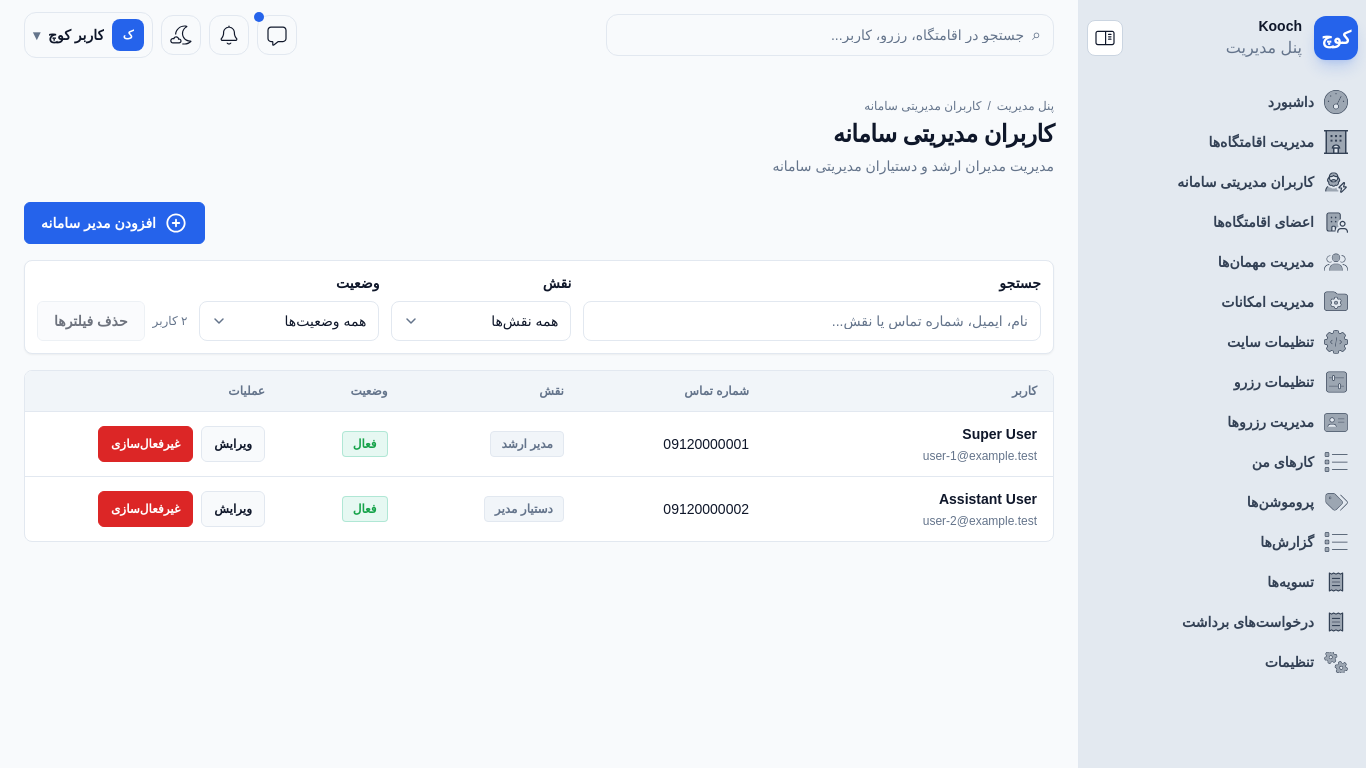
Scenario: Admin Users page › shows filtered and total user counts inside the filter card
Expected: the text "Super User" is shown, [962,426,1037,442]
Expected: the text "۲ کاربر" is shown, [153,313,188,329]
Select "مدیر ارشد" in the dropdown labelled "نقش" at (482, 321), box [392,301,572,341]
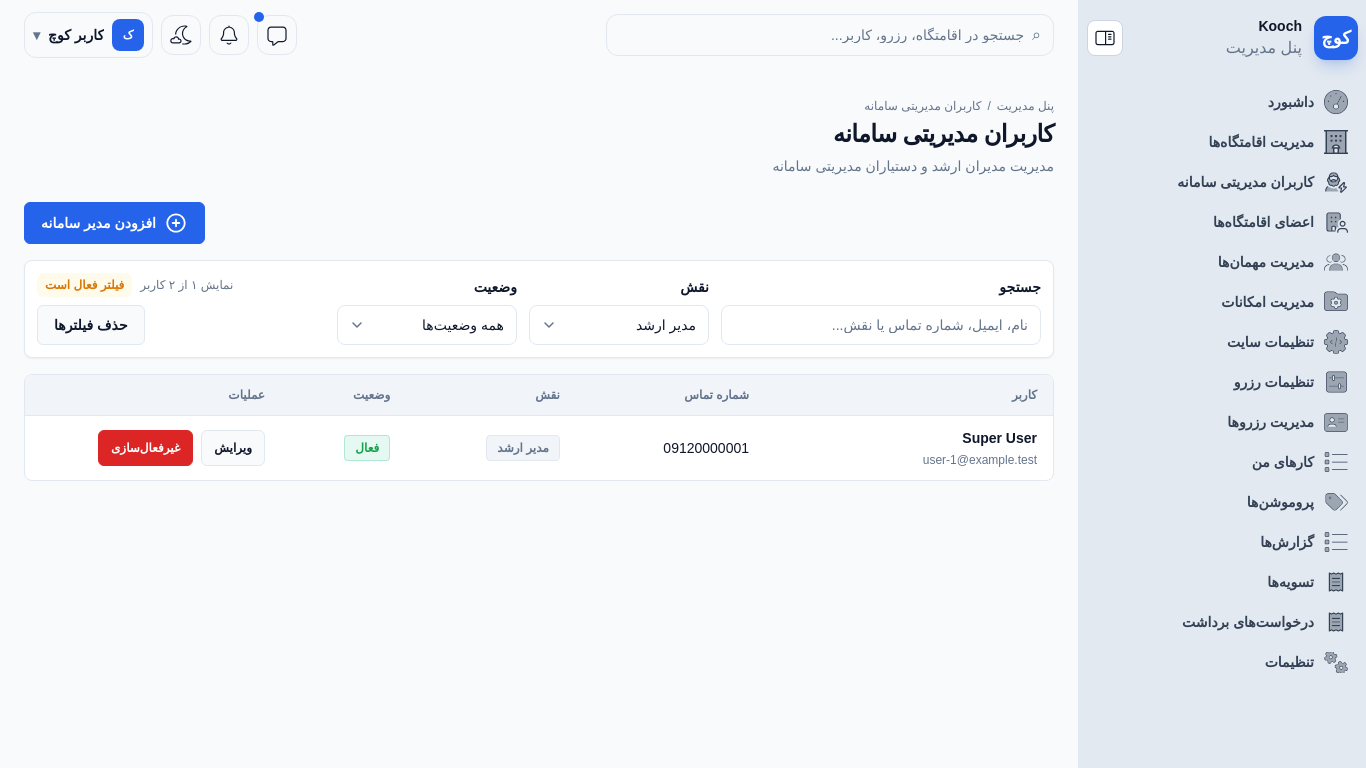
Now the text "نمایش ۱ از ۲ کاربر" is shown, box [140,277,233,293]
Now the text "فیلتر فعال است" is shown, box [37,273,132,297]
